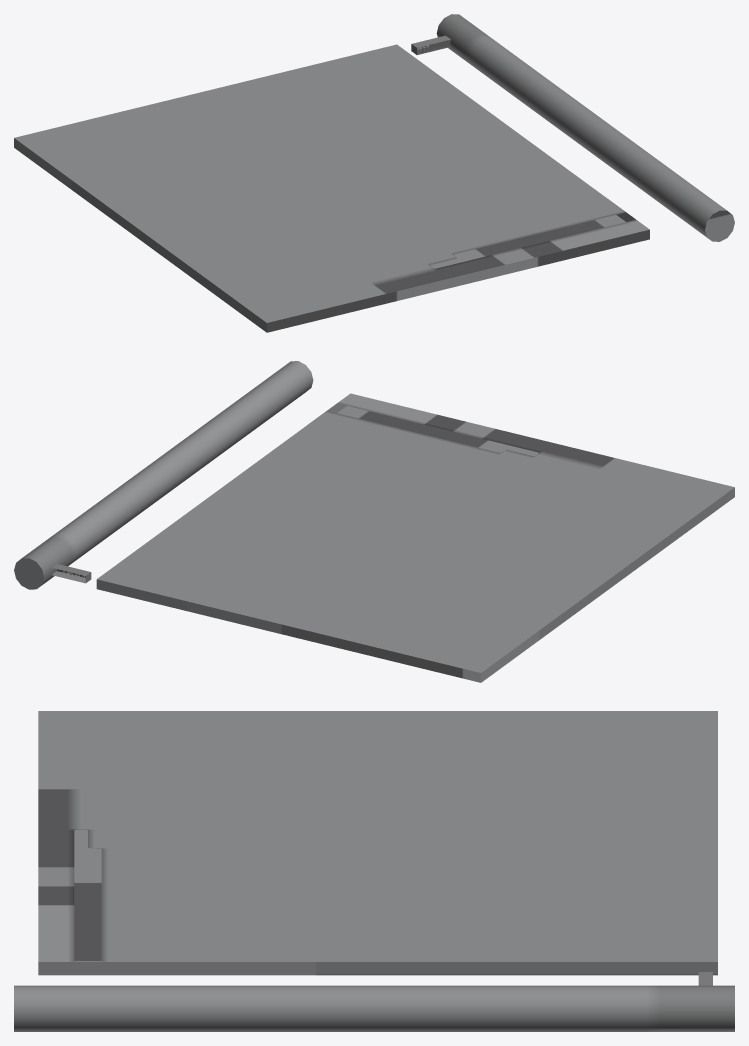
3 renders of one model, top to bottom at view 1: azimuth 30°, elevation 25°; view 2: azimuth 150°, elevation 25°; view 3: azimuth 270°, elevation 25°, orthographic. The views are drawn at different scales.
Bounding box in the file's own units: 0.978 × 0.064 × 0.99.
